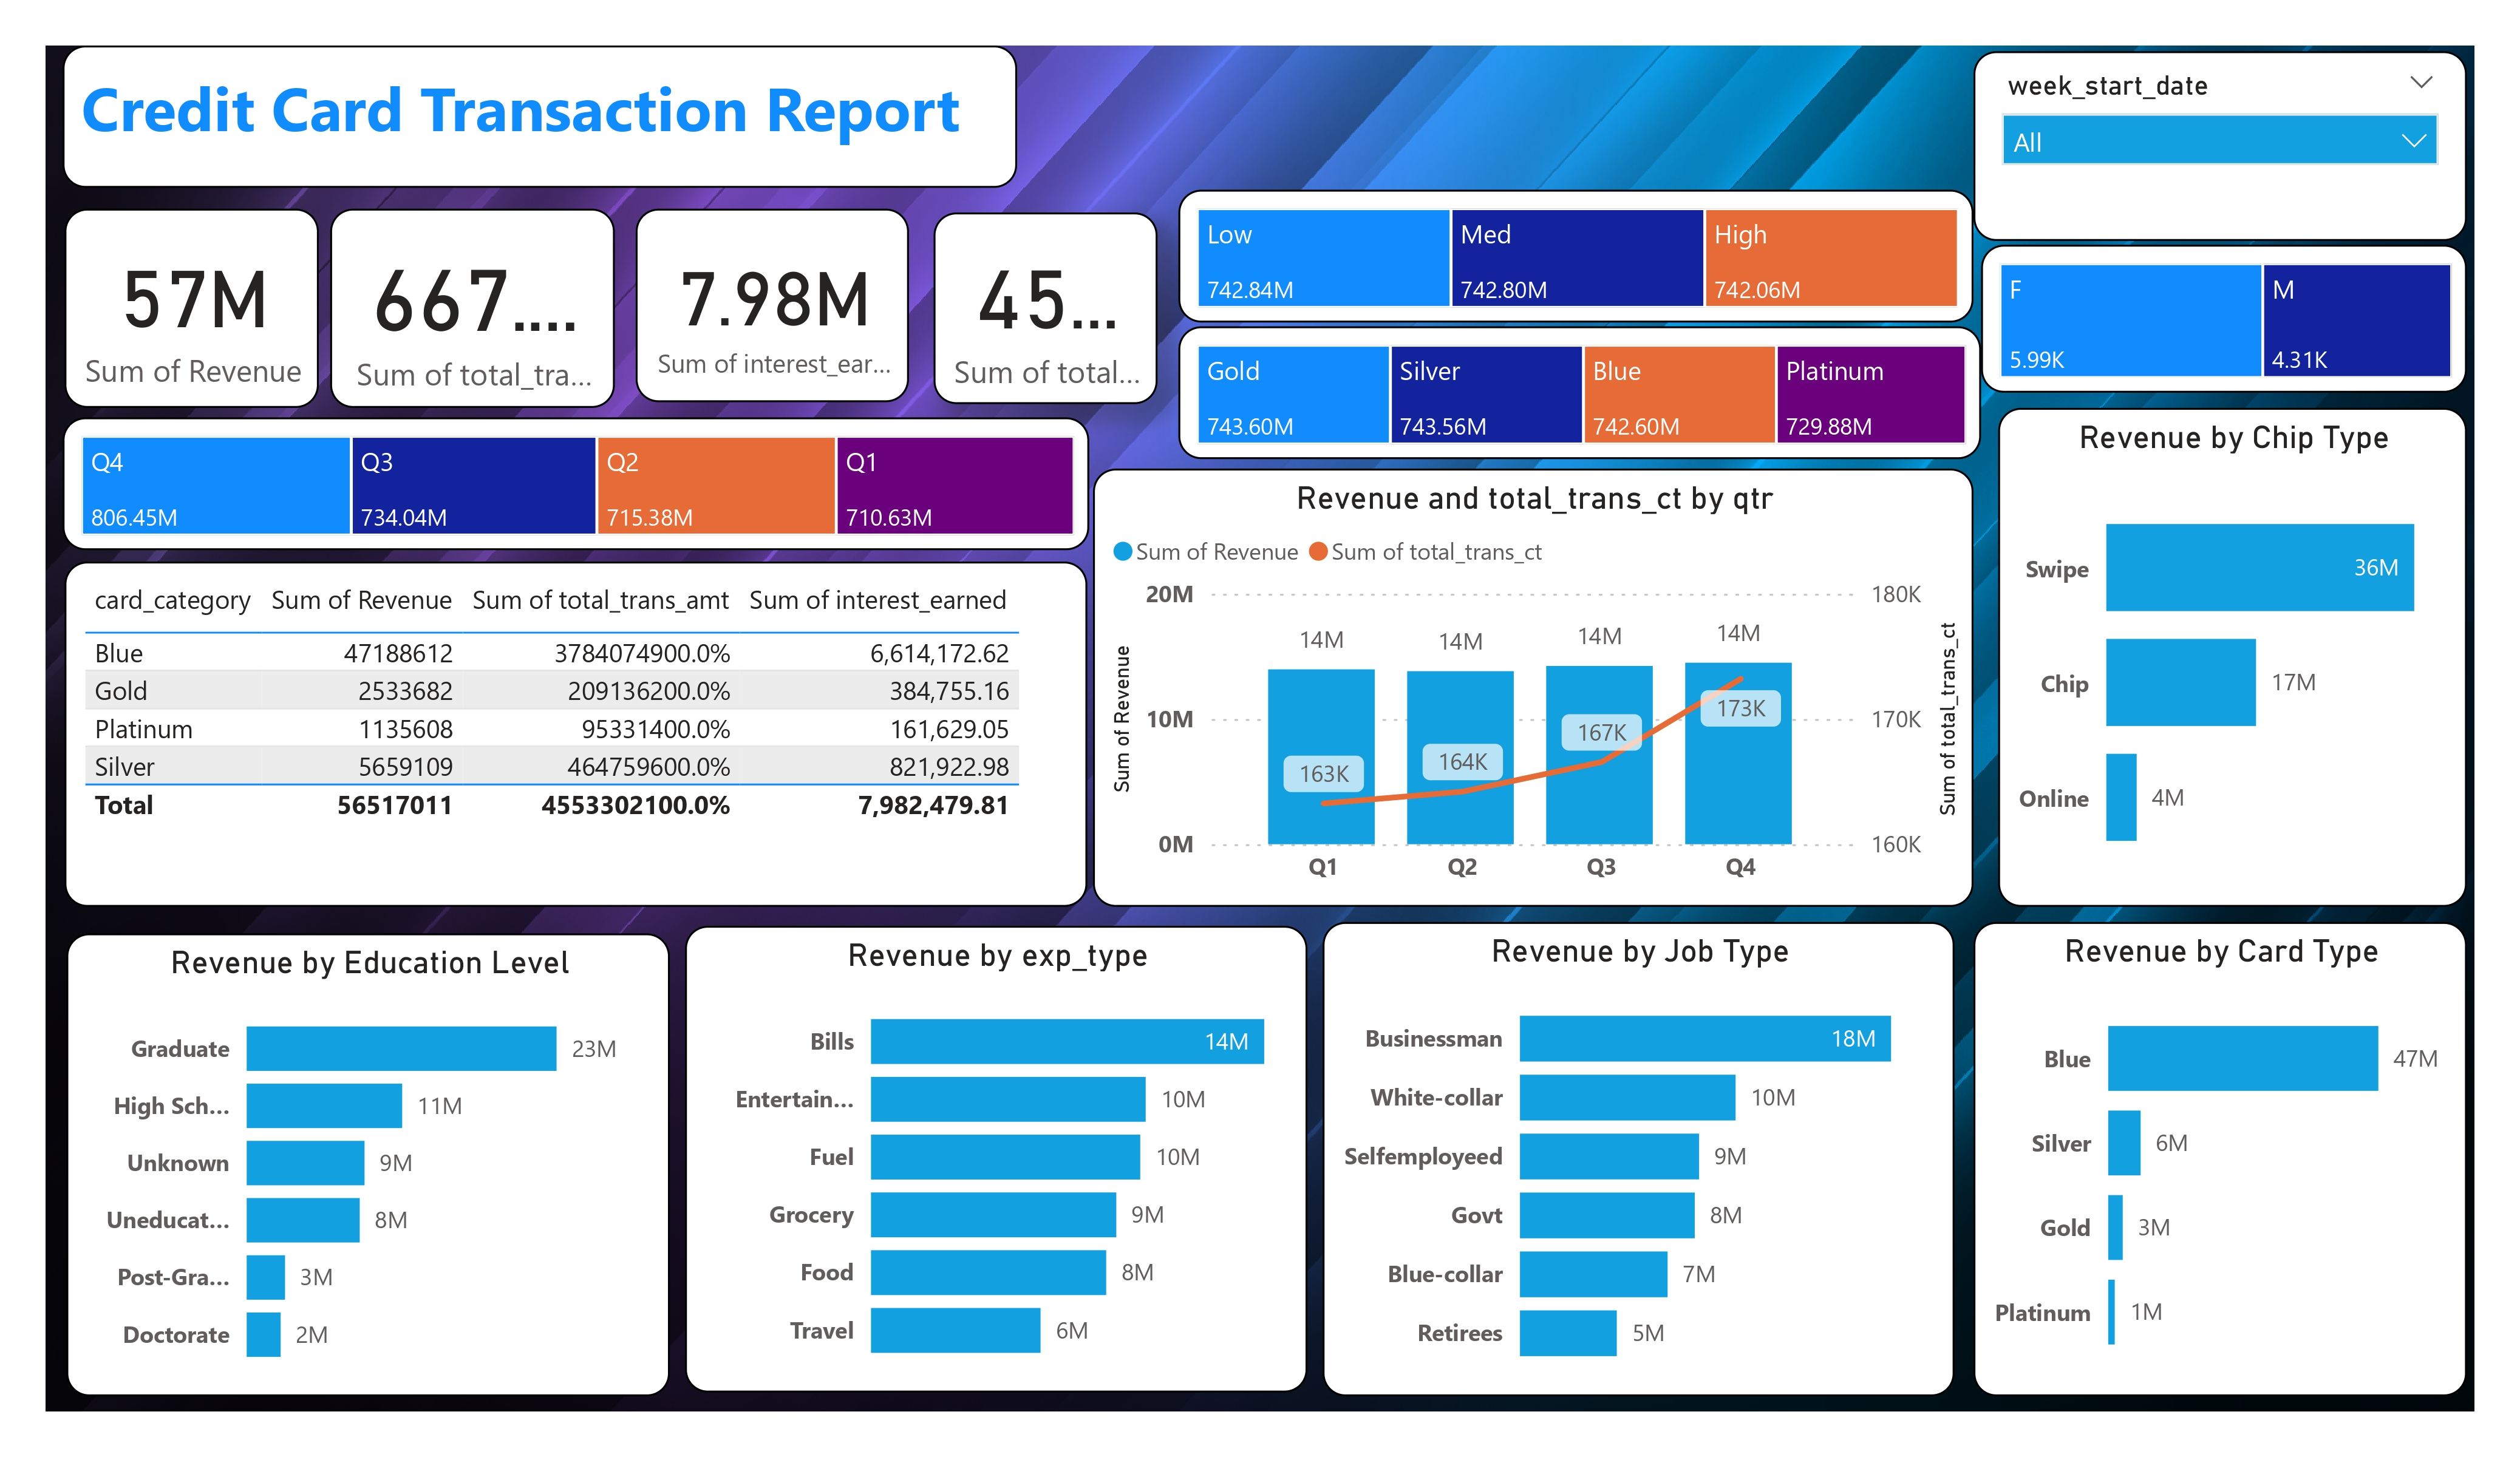

What the dashboard file says about the page in this screenshot:
{"tool":"powerbi","page":{"name":"Transaction","canvas":[1280,720],"ordinal":0},"visuals":[{"type":"textbox","box":[9.4,0,503,75.1],"z":0},{"type":"lineStackedColumnComboChart","title":"Revenue and total_trans_ct by qtr","fields":{"Category":["public cc_detail.qtr"],"Y":["Sum(public cc_detail.Revenue)"],"Y2":["Sum(public cc_detail.total_trans_ct)"]},"box":[552.3,223,463.6,230.9],"z":1000},{"type":"barChart","title":"Revenue by exp_type","fields":{"Y":["Sum(public cc_detail.Revenue)"],"Category":["public cc_detail.exp_type"]},"box":[337.2,463.6,327.5,246.7],"z":2000},{"type":"barChart","title":"Revenue by Education Level","fields":{"Y":["Sum(public cc_detail.Revenue)"],"Category":["public cust_detail.education_level"]},"box":[10.5,468,318.7,244.1],"z":3000},{"type":"barChart","title":"Revenue by Job Type","fields":{"Y":["Sum(public cc_detail.Revenue)"],"Category":["public cust_detail.customer_job"]},"box":[672.6,461.9,333.7,250.2],"z":4000},{"type":"barChart","title":"Revenue by Card Type","fields":{"Y":["Sum(public cc_detail.Revenue)"],"Category":["public cc_detail.card_category"]},"box":[1015.9,461.9,259.9,250.2],"z":5000},{"type":"barChart","title":"Revenue by Chip Type","fields":{"Y":["Sum(public cc_detail.Revenue)"],"Category":["public cc_detail.use_chip"]},"box":[1029.1,190.5,246.7,263.4],"z":6000},{"type":"tableEx","fields":{"Values":["public cc_detail.card_category","Sum(public cc_detail.Revenue)","Sum(public cc_detail.total_trans_amt)","Sum(public cc_detail.interest_earned)"]},"box":[9.7,272.2,539.1,181.8],"z":7000},{"type":"card","fields":{"Values":["Sum(public cc_detail.Revenue)"]},"box":[9.7,86,134.3,104.5],"z":8000},{"type":"card","fields":{"Values":["Sum(public cc_detail.total_trans_amt)"]},"box":[468,87.8,117.7,101],"z":9000},{"type":"card","fields":{"Values":["Sum(public cc_detail.interest_earned)"]},"box":[310.8,86,144,101.9],"z":10000},{"type":"card","title":"Total Transaction","fields":{"Values":["Sum(public cc_detail.total_trans_ct)"]},"box":[150.1,86,150.1,104.5],"z":11000},{"type":"slicer","fields":{"Values":["public cc_detail.week_start_date"]},"box":[1015.9,2.6,259.9,100.1],"z":12000},{"type":"treemap","fields":{"Group":["public cc_detail.qtr"],"Values":["Avg(public cc_detail.client_num)"]},"box":[8.8,195.8,540.9,70.2],"z":13000},{"type":"treemap","fields":{"Group":["public cust_detail.gender"],"Values":["CountNonNull(public cc_detail.client_num)"]},"box":[1020.3,105.4,255.5,77.3],"z":14000},{"type":"treemap","fields":{"Group":["public cc_detail.card_category"],"Values":["Avg(public cc_detail.client_num)"]},"box":[597.1,147.5,423.2,70.2],"z":15000},{"type":"treemap","fields":{"Group":["public cust_detail.IncomeGroup"],"Values":["Avg(public cc_detail.client_num)"]},"box":[597.1,75.5,418.8,70.2],"z":16000}]}

Visuals, with their boxes in screenshot pixels (x1, y1, x2, y2):
textbox: {"x1": 63, "y1": 46, "x2": 1018, "y2": 188}
"Revenue and total_trans_ct by qtr" lineStackedColumnComboChart: {"x1": 1094, "y1": 469, "x2": 1973, "y2": 906}
"Revenue by exp_type" barChart: {"x1": 686, "y1": 925, "x2": 1307, "y2": 1393}
"Revenue by Education Level" barChart: {"x1": 66, "y1": 934, "x2": 670, "y2": 1396}
"Revenue by Job Type" barChart: {"x1": 1322, "y1": 922, "x2": 1955, "y2": 1396}
"Revenue by Card Type" barChart: {"x1": 1973, "y1": 922, "x2": 2467, "y2": 1396}
"Revenue by Chip Type" barChart: {"x1": 1998, "y1": 407, "x2": 2467, "y2": 906}
tableEx - public cc_detail.card_category x Sum(public cc_detail.Revenue): {"x1": 64, "y1": 562, "x2": 1087, "y2": 907}
card - Sum(public cc_detail.Revenue): {"x1": 64, "y1": 209, "x2": 319, "y2": 407}
card - Sum(public cc_detail.total_trans_amt): {"x1": 934, "y1": 212, "x2": 1157, "y2": 404}
card - Sum(public cc_detail.interest_earned): {"x1": 635, "y1": 209, "x2": 908, "y2": 402}
"Total Transaction" card: {"x1": 330, "y1": 209, "x2": 615, "y2": 407}
slicer - public cc_detail.week_start_date: {"x1": 1973, "y1": 50, "x2": 2467, "y2": 240}
treemap - public cc_detail.qtr x Avg(public cc_detail.client_num): {"x1": 62, "y1": 417, "x2": 1089, "y2": 550}
treemap - public cust_detail.gender x CountNonNull(public cc_detail.client_num): {"x1": 1981, "y1": 245, "x2": 2467, "y2": 392}
treemap - public cc_detail.card_category x Avg(public cc_detail.client_num): {"x1": 1179, "y1": 325, "x2": 1981, "y2": 458}
treemap - public cust_detail.IncomeGroup x Avg(public cc_detail.client_num): {"x1": 1179, "y1": 189, "x2": 1973, "y2": 322}
